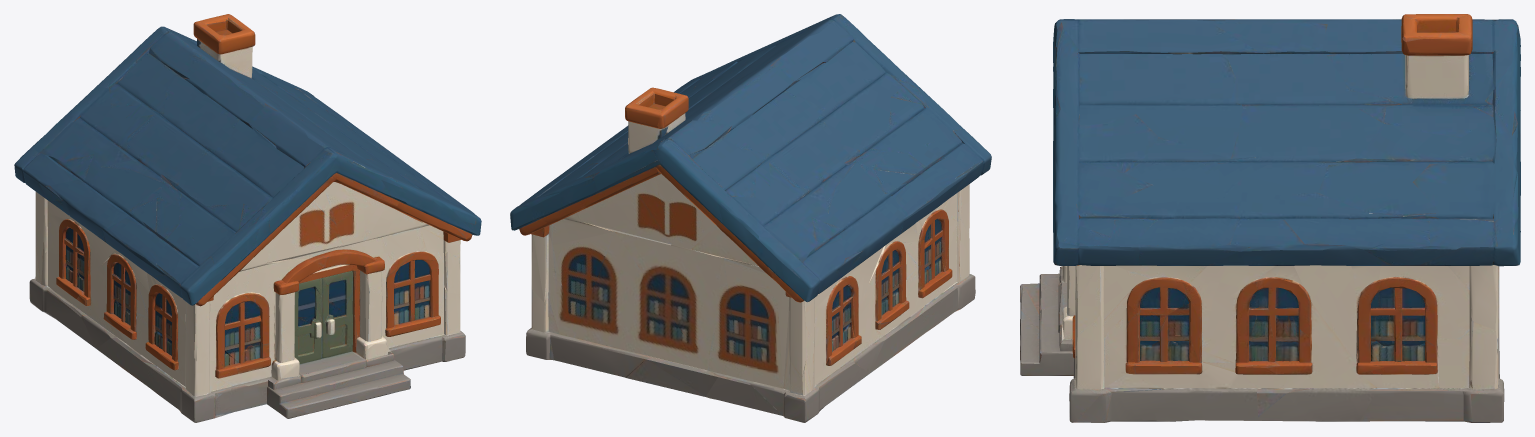
The model's file is museumLibrary.glb.
3 views of the same model, side by side, from view 1: azimuth 30°, elevation 25°; view 2: azimuth 150°, elevation 25°; view 3: azimuth 270°, elevation 25° (orthographic). The views are drawn at different scales.
Parts seen in each view (by area): view 1: Mesh_0; view 2: Mesh_0; view 3: Mesh_0.
Part boxes in pixels (box(x1,y1,x2,y2)): Mesh_0: box(14, 14, 481, 422); Mesh_0: box(510, 14, 991, 422); Mesh_0: box(1020, 14, 1520, 422).
Bounding box in the file's own units: 2.68 × 2.21 × 3.
Materials: 1 (1 with a texture image).
